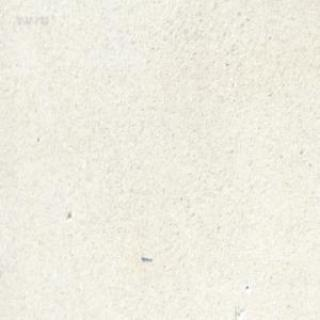Nailtrack_idkeyframe: (140, 253, 152, 262)
